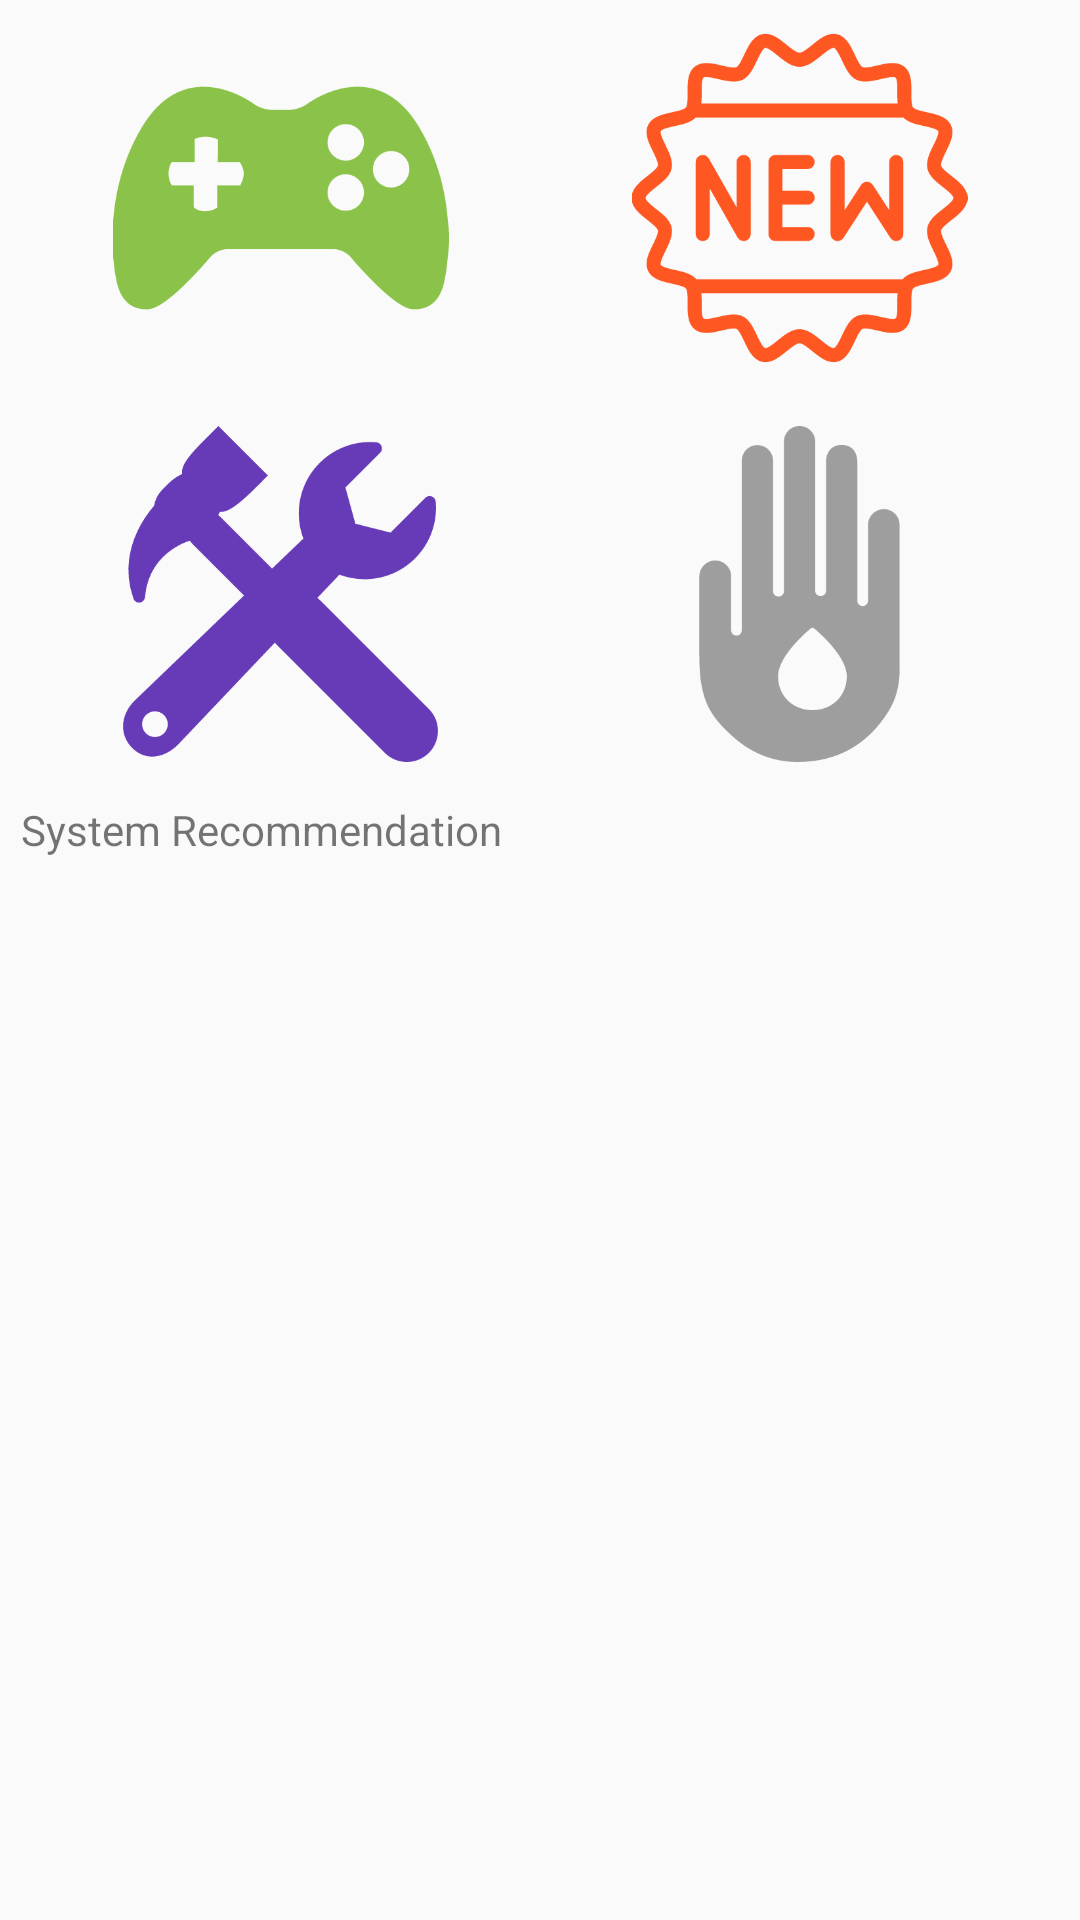

Where to tap for icons on this 1080x1920 app screen, as (x,y):
game category: (281,198)
tools category: (280,594)
